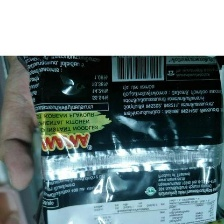snack: (12, 56, 224, 224)
